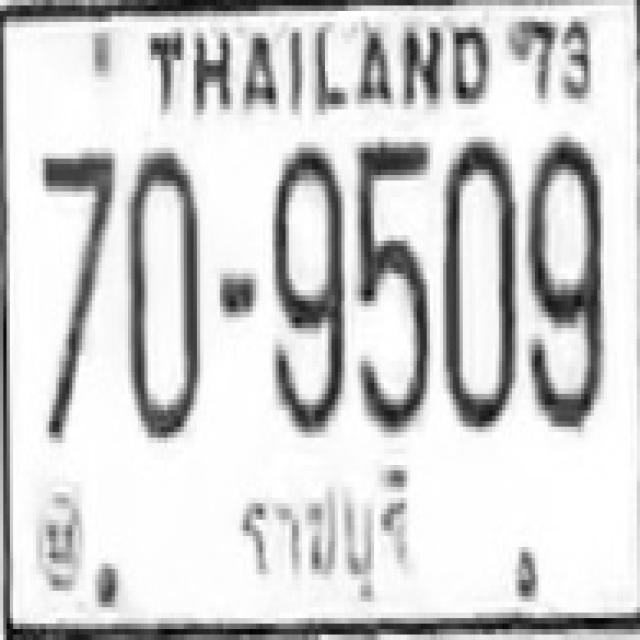0: (440, 136, 515, 426), (125, 148, 200, 438)
5: (354, 136, 426, 426)
7: (38, 145, 113, 440), (39, 148, 115, 377)
9: (525, 131, 601, 427), (269, 142, 341, 427)
RBR: (223, 456, 420, 616)
